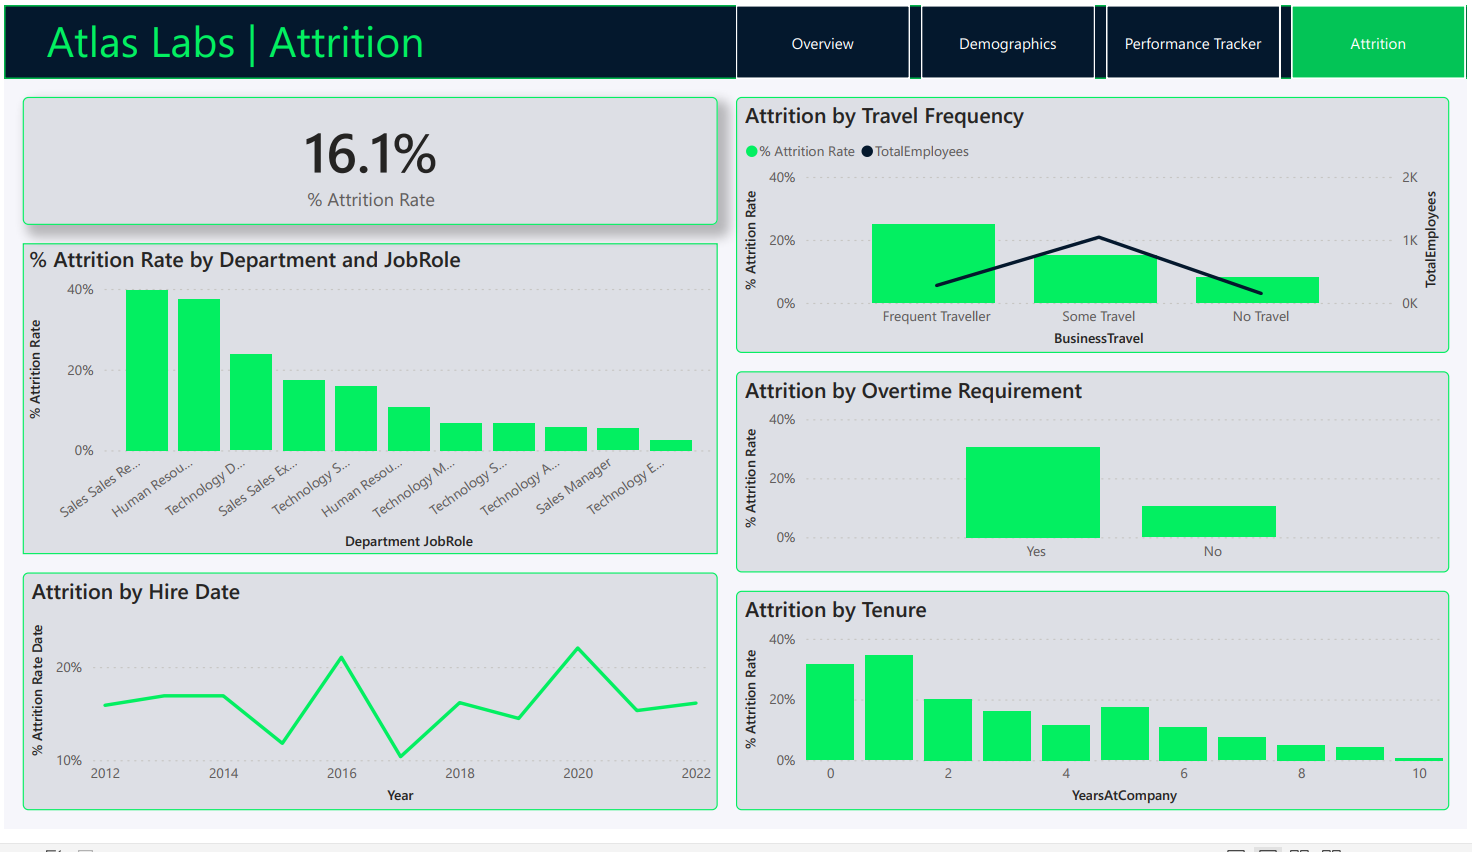

What the dashboard file says about the page in this screenshot:
{"tool":"powerbi","page":{"name":"Attrition","canvas":[1280,720],"ordinal":3},"visuals":[{"type":"card","fields":{"Values":["_Measures.% Attrition Rate"]},"box":[16,80,608,112],"z":0},{"type":"columnChart","fields":{"Category":["DimEmployee.Department","DimEmployee.JobRole"],"Y":["_Measures.% Attrition Rate"]},"box":[16,208,608,272],"z":1000},{"type":"lineChart","title":"Attrition by Hire Date","fields":{"Y":["_Measures.% Attrition Rate Date"],"Category":["DimDate.Date.Variation.Date Hierarchy.Year","DimDate.Date.Variation.Date Hierarchy.Quarter","DimDate.Date.Variation.Date Hierarchy.Month","DimDate.Date.Variation.Date Hierarchy.Day"]},"box":[16,496,608,208],"z":2000},{"type":"lineStackedColumnComboChart","title":"Attrition by Travel Frequency","fields":{"Y":["_Measures.% Attrition Rate"],"Category":["DimEmployee.BusinessTravel"],"Y2":["_Measures.TotalEmployees"]},"box":[640,80,624,224],"z":3000},{"type":"columnChart","title":"Attrition by Overtime Requirement","fields":{"Category":["DimEmployee.OverTime"],"Y":["_Measures.% Attrition Rate"]},"box":[640,320,624,176],"z":4000},{"type":"columnChart","title":"Attrition by Tenure","fields":{"Category":["DimEmployee.YearsAtCompany"],"Y":["_Measures.% Attrition Rate"]},"box":[640,512,624,192],"z":5000},{"type":"shape","box":[0,0,1280,64],"z":6000},{"type":"textbox","box":[32,0,624,64],"z":7000},{"type":"pageNavigator","box":[640,0,640,64],"z":8000}]}

Visuals, with their boxes in screenshot pixels (x1, y1, x2, y2), scaled from the page's 1280x720 canvas onto the 1472x852 screenshot:
card - _Measures.% Attrition Rate: l=18, t=95, r=718, b=227
columnChart - DimEmployee.Department x DimEmployee.JobRole: l=18, t=246, r=718, b=568
"Attrition by Hire Date" lineChart: l=18, t=587, r=718, b=833
"Attrition by Travel Frequency" lineStackedColumnComboChart: l=736, t=95, r=1454, b=360
"Attrition by Overtime Requirement" columnChart: l=736, t=379, r=1454, b=587
"Attrition by Tenure" columnChart: l=736, t=606, r=1454, b=833
shape: l=0, t=0, r=1471, b=76
textbox: l=37, t=0, r=754, b=76
pageNavigator: l=736, t=0, r=1471, b=76
